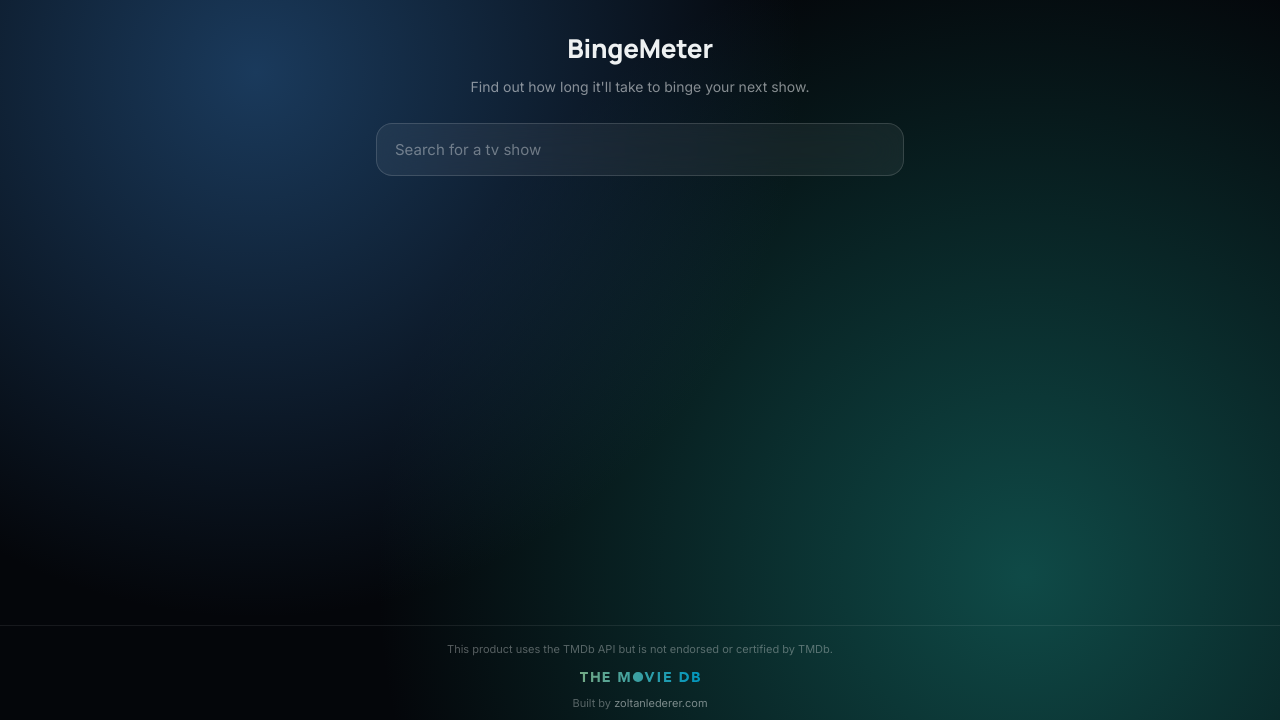
Test: shows an error message when the search fetch fails
In the field: (640, 150) left=376, top=123, right=904, bottom=176, type "test"
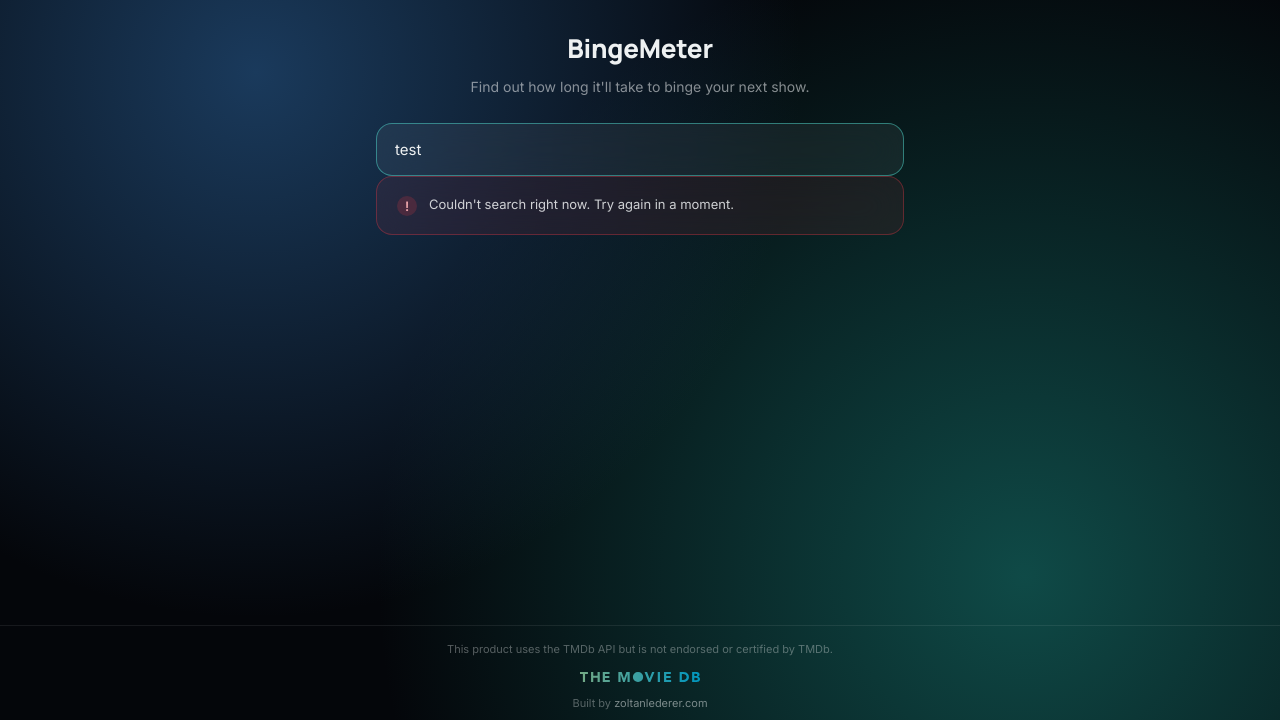
Check: the text "Couldn't search right now. Try again in a moment." is shown, box left=429, top=195, right=734, bottom=214
